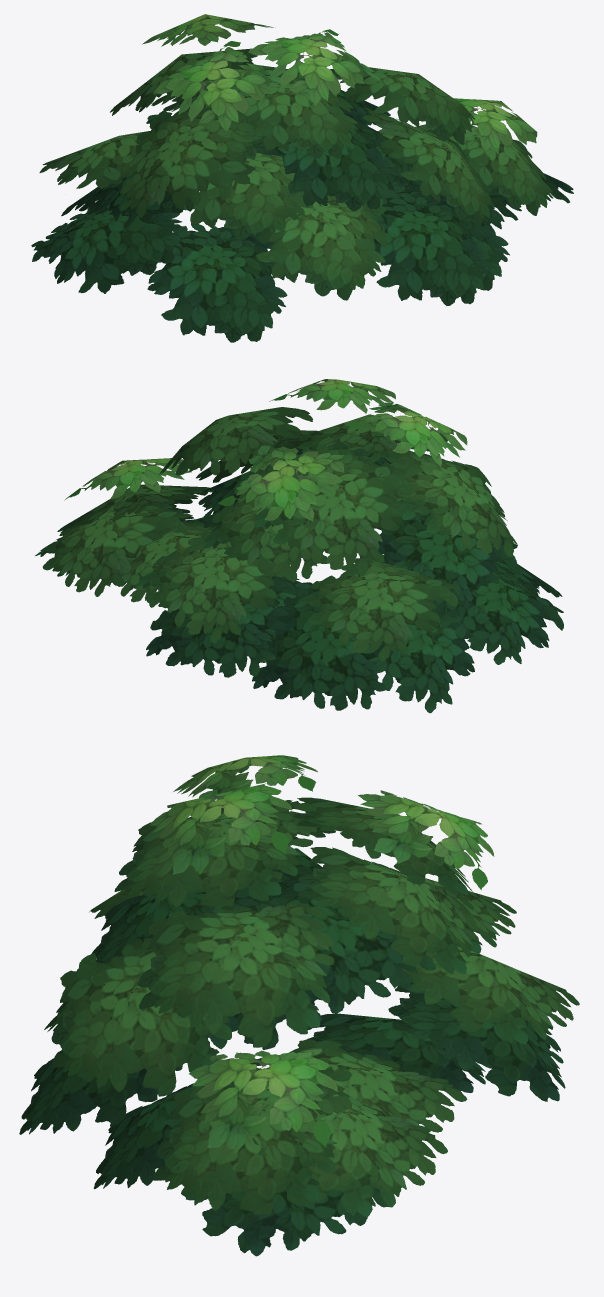
Rendered from scene_senlincaodi_tree06.FBX.
The picture shows the model from 3 angles, top to bottom: view 1: azimuth 30°, elevation 25°; view 2: azimuth 150°, elevation 25°; view 3: azimuth 270°, elevation 25°; orthographic projection. The views are drawn at different scales.
Visible parts, largest first — view 1: scene_senlincaodi_tree06; view 2: scene_senlincaodi_tree06; view 3: scene_senlincaodi_tree06.
Part boxes in pixels (box(x1,y1,x2,y2)): scene_senlincaodi_tree06: box(31, 14, 573, 342); scene_senlincaodi_tree06: box(35, 379, 563, 713); scene_senlincaodi_tree06: box(19, 755, 579, 1256).
Size of the model in its own units: 2328 by 1025 by 1693.
